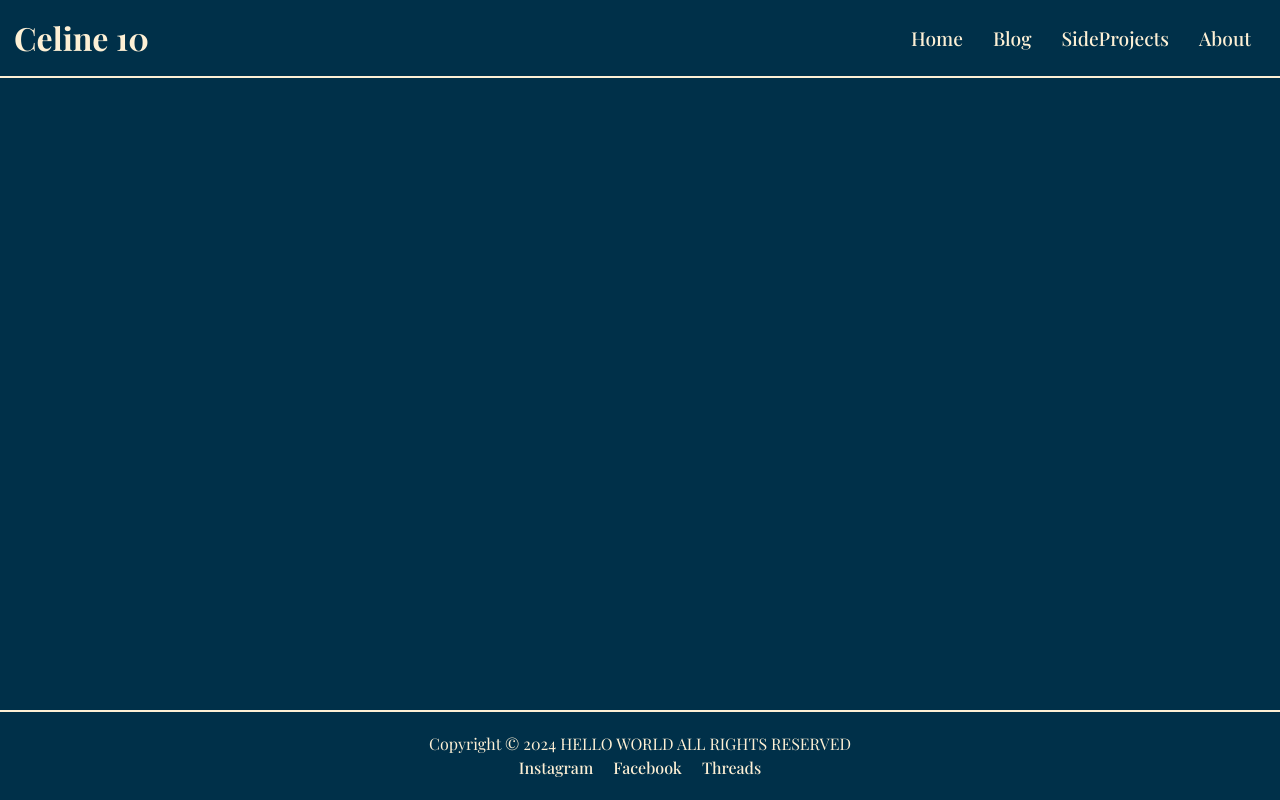
Test: layout page › clicks and change to blog page
Click the link "Blog" at (1012, 38), box x1=993 y1=25 x2=1032 y2=51
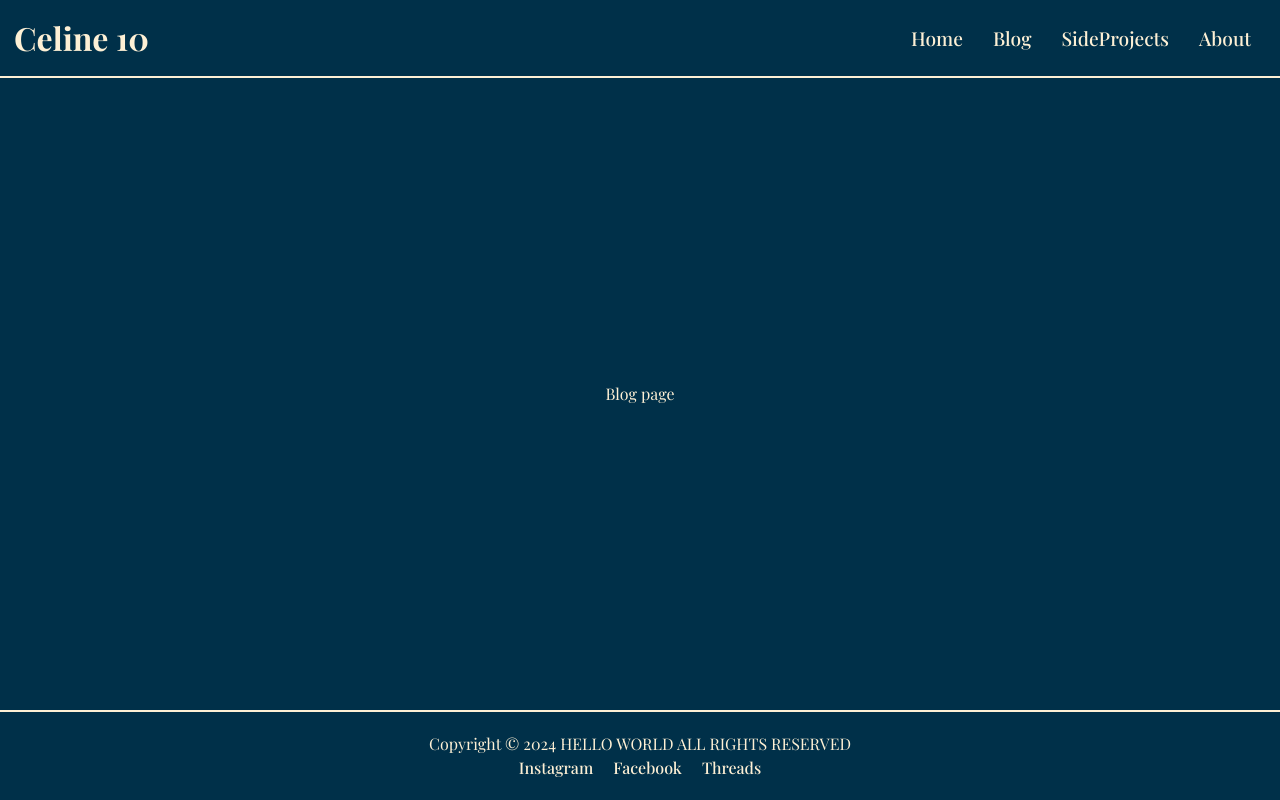
Result: the text "Blog page" is shown at x1=606 y1=383 x2=675 y2=404
